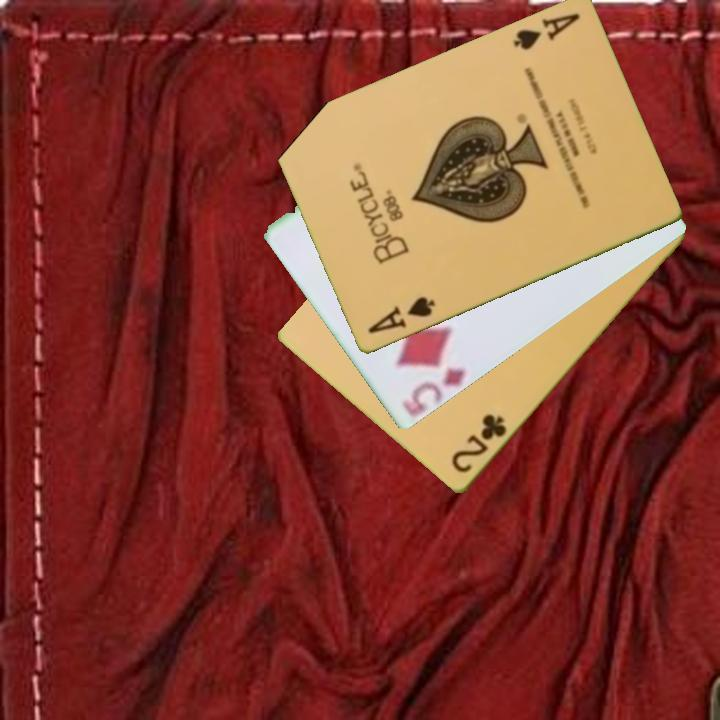2c: (448, 411, 510, 477)
5d: (402, 364, 469, 415)
As: (364, 293, 438, 337), (509, 10, 583, 54)
